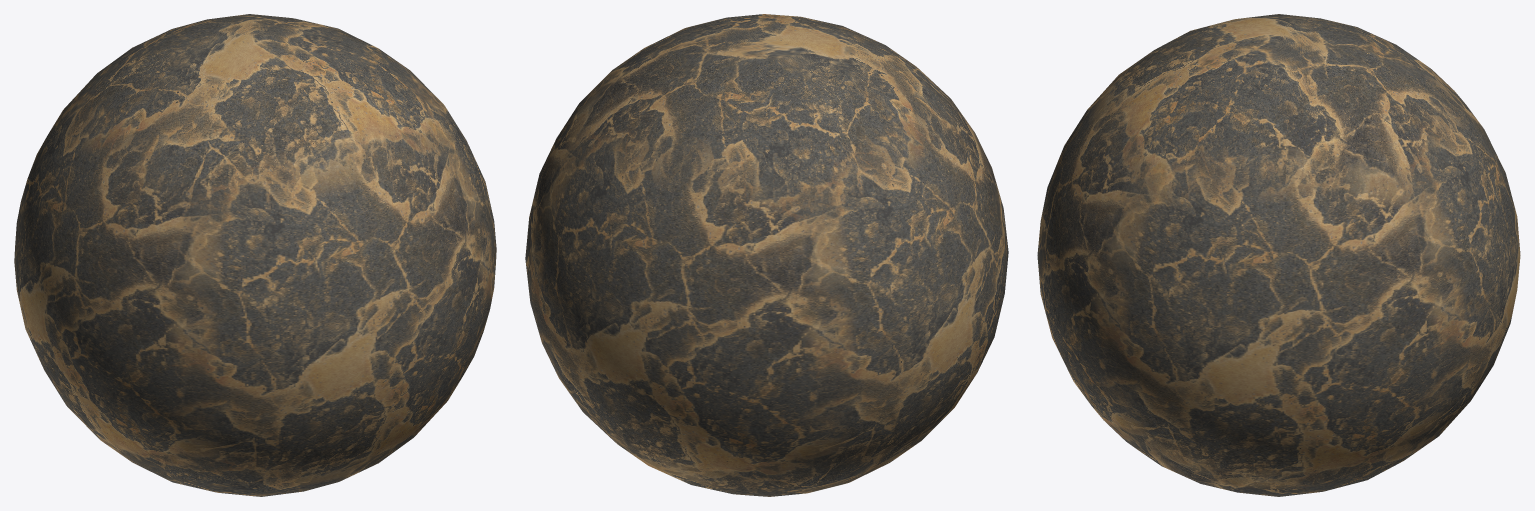
File: Sphere_with_normal.fbx
The picture shows the model from 3 angles, left to right: view 1: azimuth 30°, elevation 25°; view 2: azimuth 150°, elevation 25°; view 3: azimuth 270°, elevation 25°; orthographic projection.
Parts seen in each view (by area): view 1: Sphere_pPlatonic1; view 2: Sphere_pPlatonic1; view 3: Sphere_pPlatonic1.
Part boxes in pixels (<box>): Sphere_pPlatonic1: <box>14,14,496,496</box>; Sphere_pPlatonic1: <box>525,14,1008,496</box>; Sphere_pPlatonic1: <box>1037,14,1520,496</box>.
Size of the model in its own units: 1.99 by 2 by 2.
